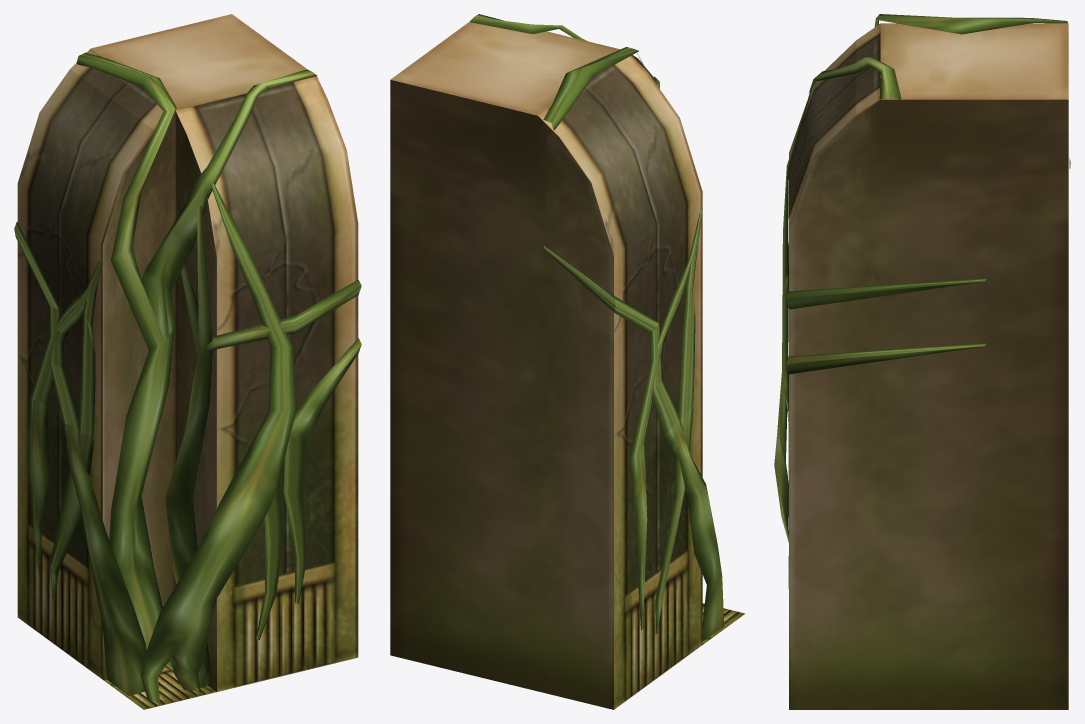
File: a_SWAwall01b.glb
3 renders of one model, left to right at view 1: azimuth 30°, elevation 25°; view 2: azimuth 150°, elevation 25°; view 3: azimuth 270°, elevation 25°, orthographic. The views are drawn at different scales.
Visible parts, largest first — view 1: a_SWAwall01b; view 2: a_SWAwall01b; view 3: a_SWAwall01b.
Boxes of the visible parts, left/top/right/bottom form: a_SWAwall01b: left=14, top=14, right=361, bottom=709; a_SWAwall01b: left=390, top=14, right=745, bottom=709; a_SWAwall01b: left=774, top=14, right=1070, bottom=709.
Bounding box in the file's own units: 1.05 × 2.5 × 1.08.
2 materials, 2 textured.
